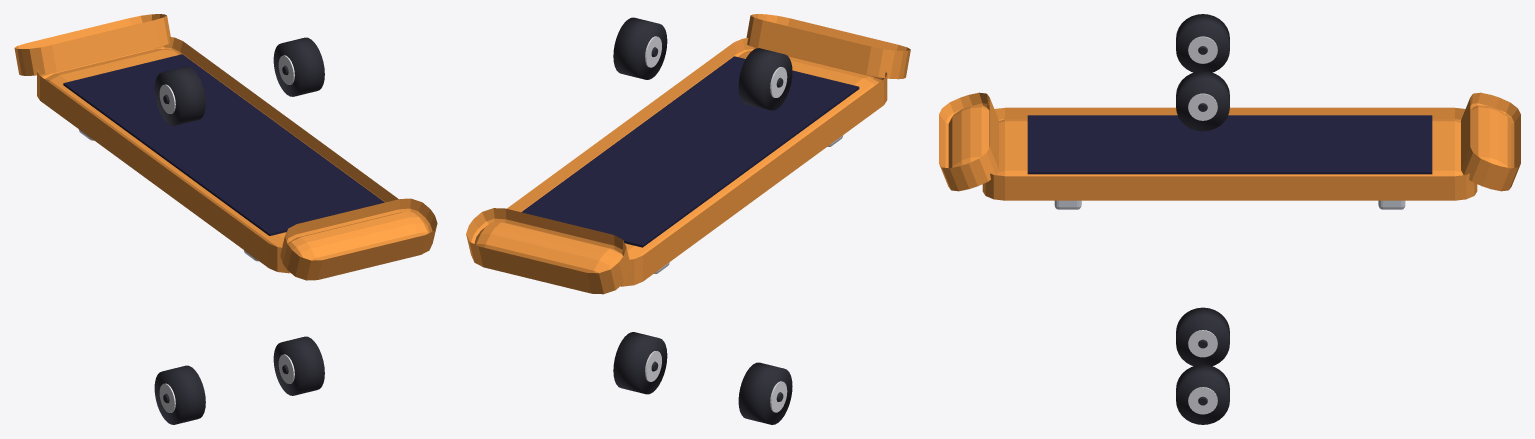
File: Car_Skateboard.fbx
3 views of the same model, side by side, from view 1: azimuth 30°, elevation 25°; view 2: azimuth 150°, elevation 25°; view 3: azimuth 270°, elevation 25° (orthographic). The views are drawn at different scales.
Visible parts, largest first — view 1: Car_Skateboard, Wheel_RL, Wheel_FL, Wheel_RR, Wheel_FR; view 2: Car_Skateboard, Wheel_RL, Wheel_RR, Wheel_FL, Wheel_FR; view 3: Car_Skateboard, Wheel_FR, Wheel_RR, Wheel_RL, Wheel_FL.
Part boxes in pixels (x1,y1,x2,y2): Car_Skateboard: [14, 14, 437, 280]; Wheel_RL: [154, 66, 205, 125]; Wheel_FL: [154, 365, 205, 424]; Wheel_RR: [273, 37, 324, 96]; Wheel_FR: [273, 336, 324, 395]; Car_Skateboard: [466, 14, 910, 294]; Wheel_RL: [738, 48, 792, 110]; Wheel_RR: [613, 17, 667, 79]; Wheel_FL: [738, 362, 792, 424]; Wheel_FR: [613, 332, 667, 394]; Car_Skateboard: [939, 92, 1520, 209]; Wheel_FR: [1176, 364, 1229, 424]; Wheel_RR: [1176, 71, 1229, 131]; Wheel_RL: [1176, 14, 1229, 72]; Wheel_FL: [1176, 307, 1229, 366].
Bounding box in the file's own units: 0.3756 × 0.84 × 1.29.
